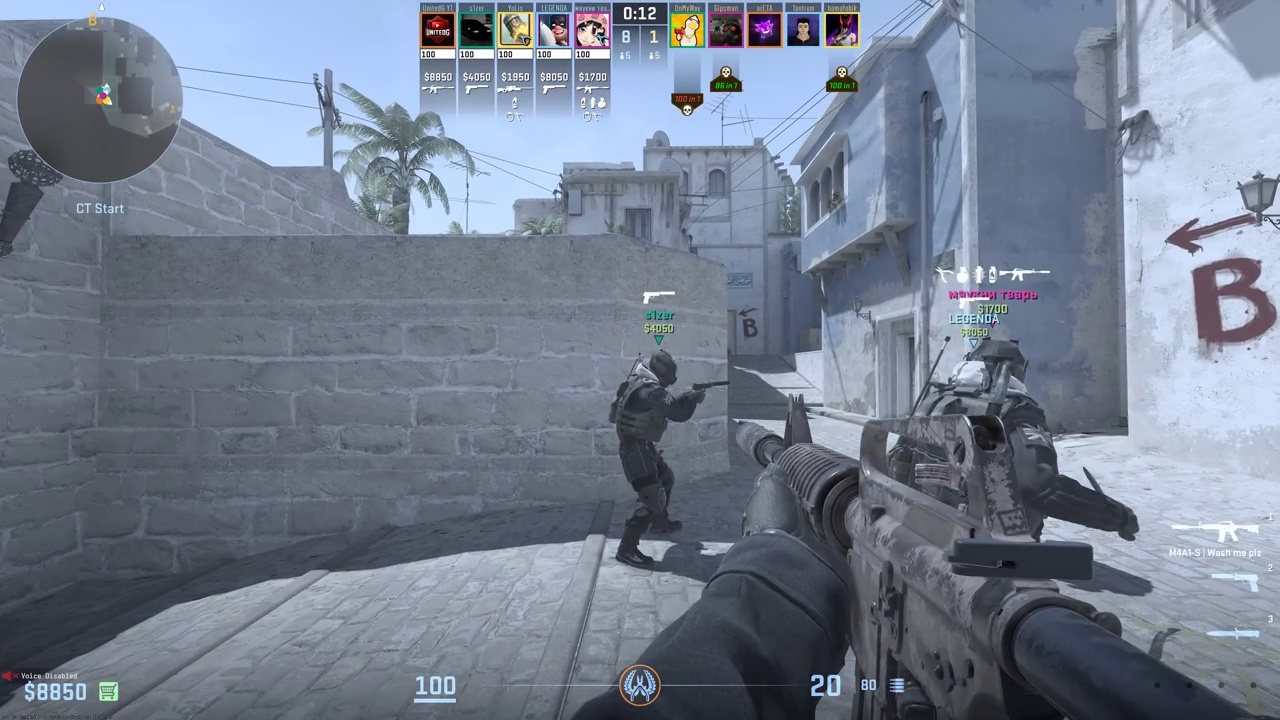CT: (919, 343, 1085, 543), (619, 350, 686, 565)
